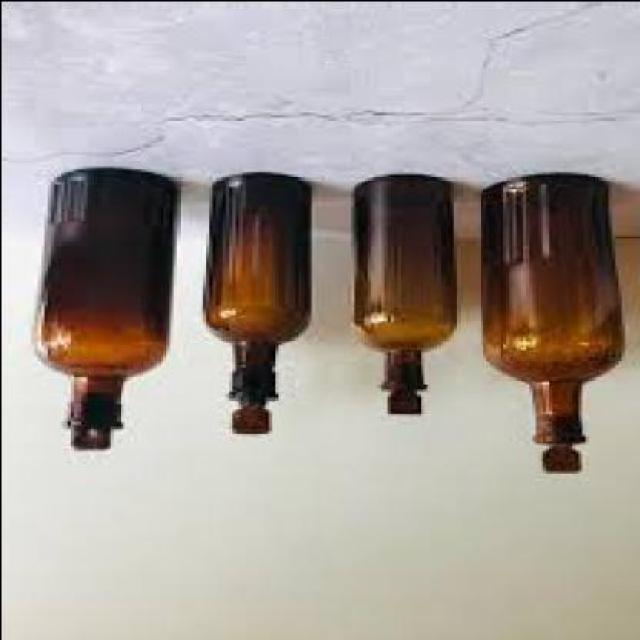GLASS: (33, 168, 178, 450), (479, 172, 623, 448), (205, 175, 317, 400), (349, 173, 458, 393)
